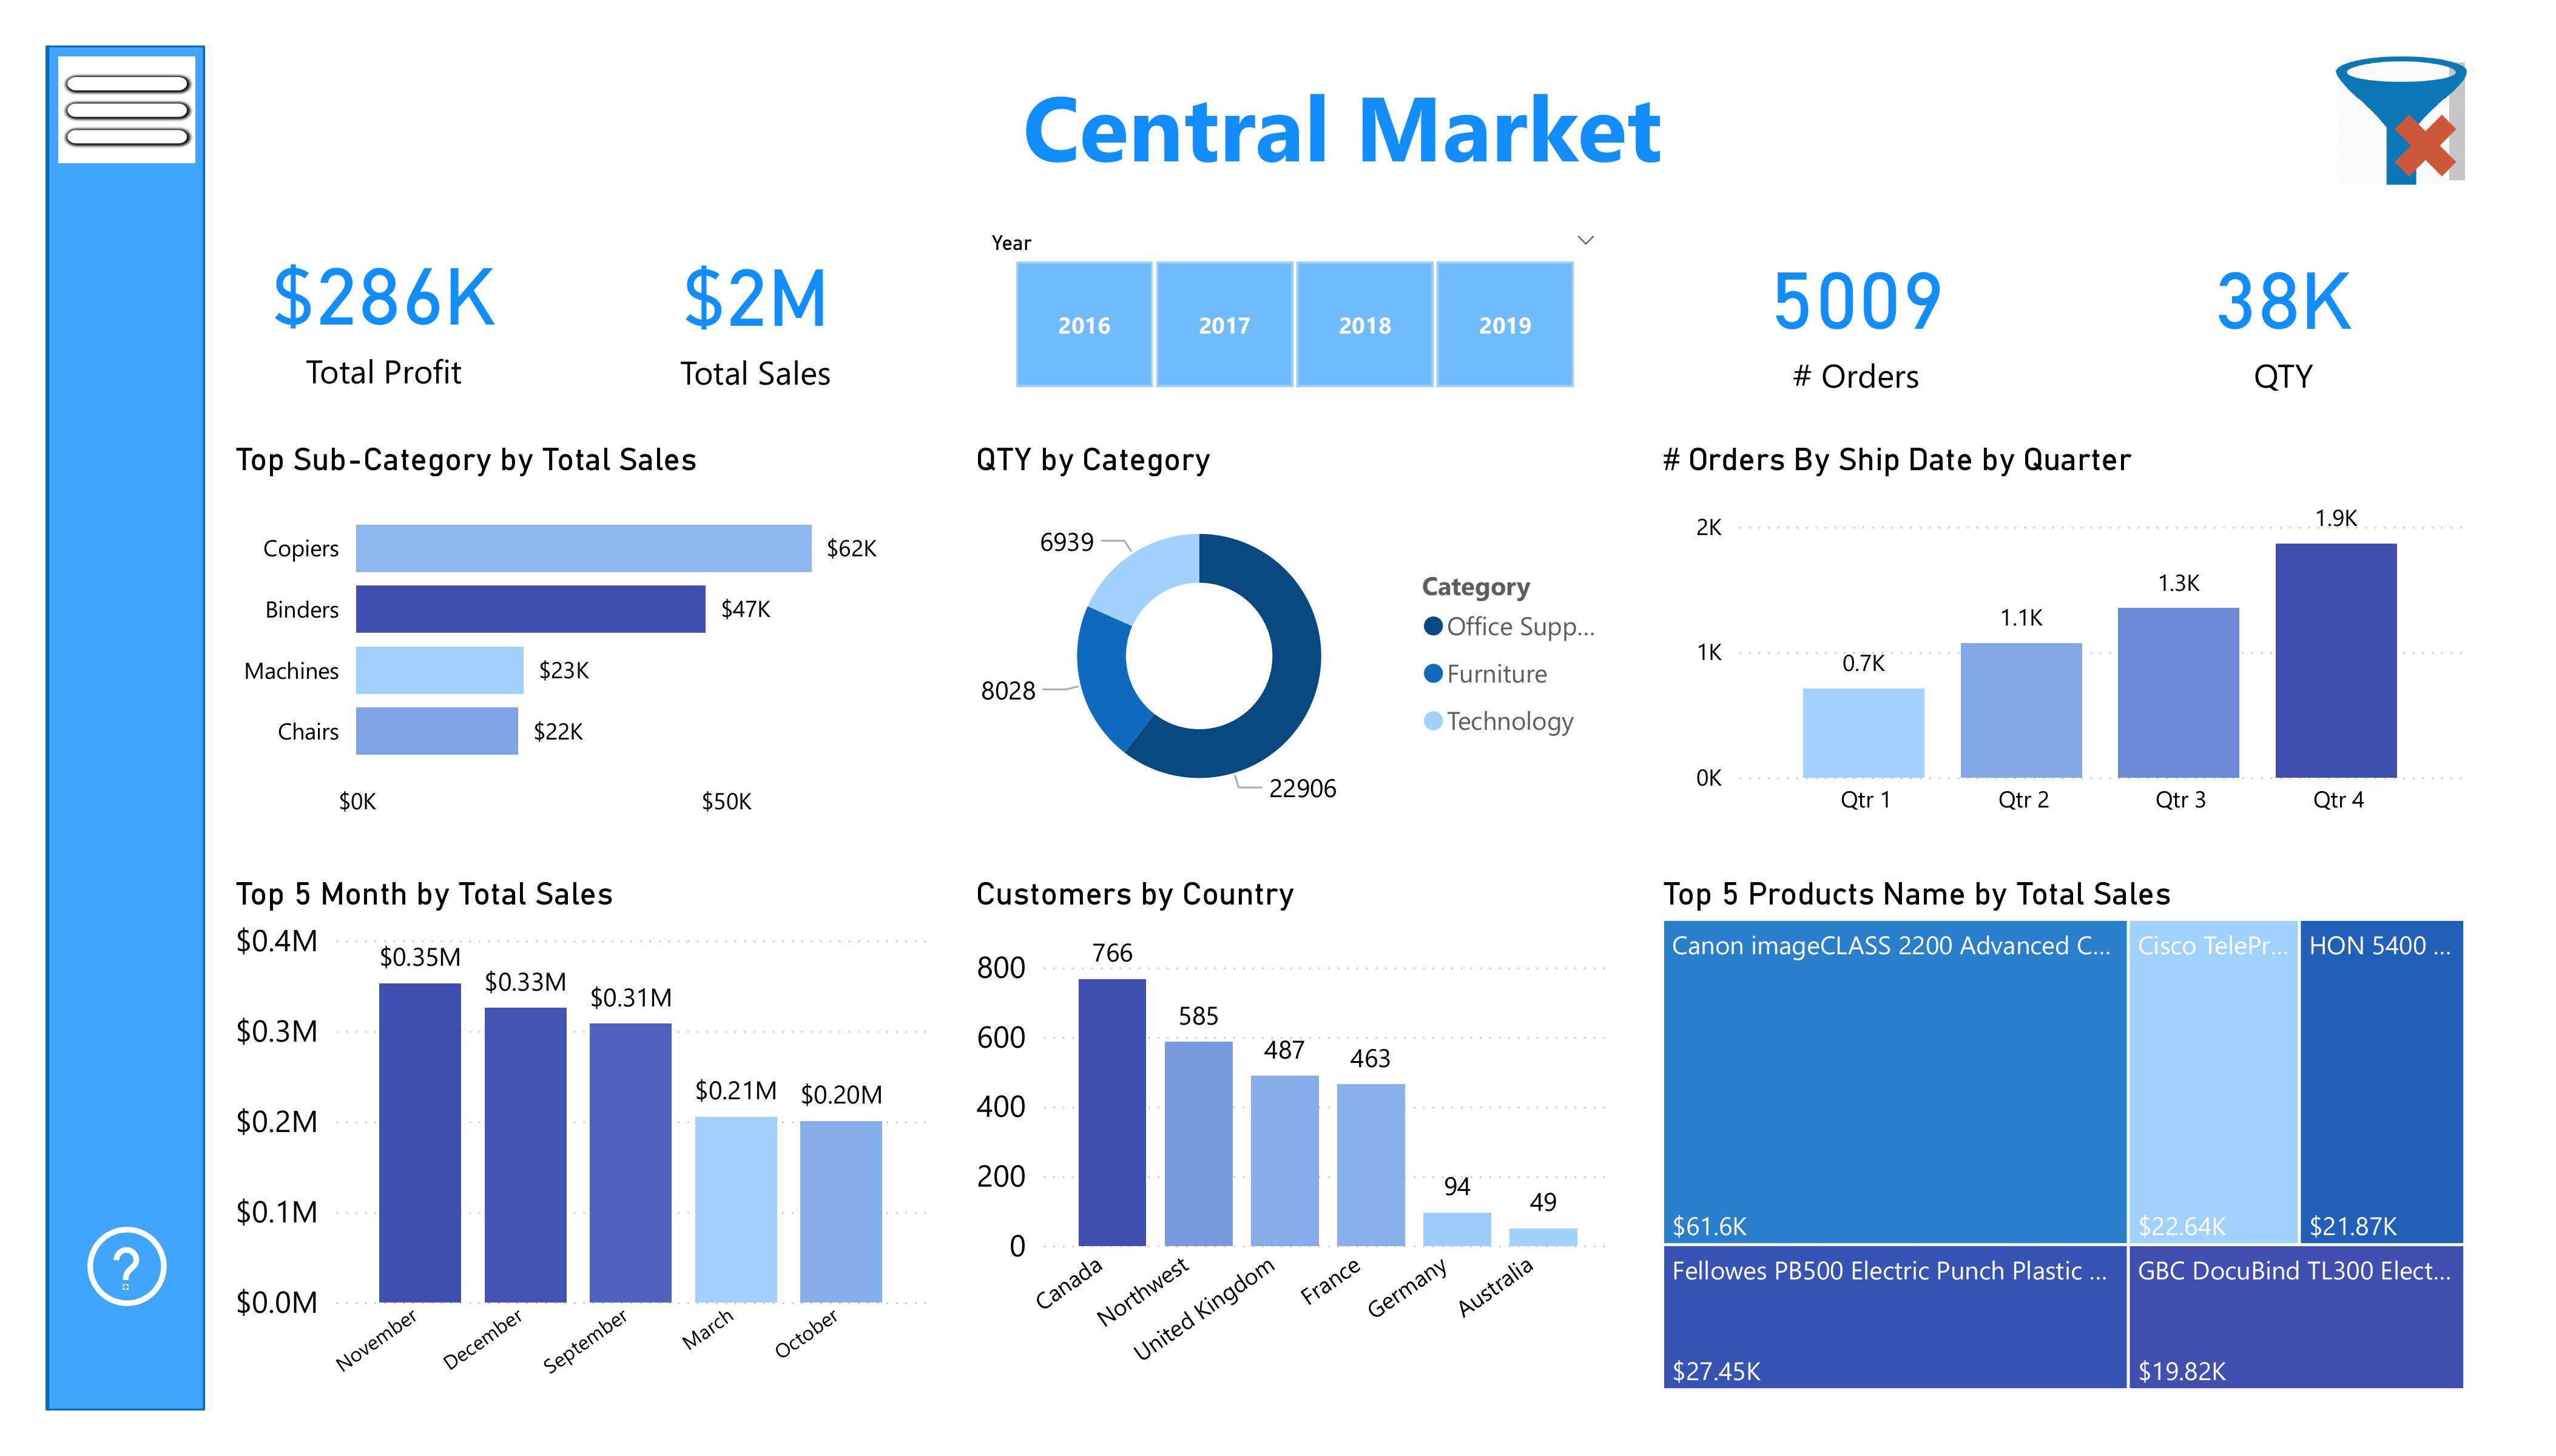

What the dashboard file says about the page in this screenshot:
{"tool":"powerbi","page":{"name":"Overview","canvas":[1300,720],"ordinal":0},"visuals":[{"type":"textbox","box":[90.7,0,1192.3,79.2],"z":0},{"type":"actionButton","title":"QS","box":[7.2,616.4,70.6,54.7],"z":0,"group":"g2"},{"type":"actionButton","title":"QS","box":[1.9,623.5,73.4,53.3],"z":0,"group":"g1"},{"type":"actionButton","title":"Menu Button","box":[3.1,0,71.6,56.2],"z":1000,"group":"g1"},{"type":"image","box":[1183.7,0,116.6,79.2],"z":1000},{"type":"actionButton","title":"Menu Button","box":[7.2,5.8,72,56.2],"z":1000,"group":"g2"},{"type":"card","fields":{"Values":["Dax Measures.# Orders"]},"box":[843.8,90.7,220.3,99.4],"z":3000},{"type":"shape","box":[0,0,77.8,720],"z":4000},{"type":"card","fields":{"Values":["Dax Measures.Total Profit"]},"box":[90.7,87.8,172.8,100.8],"z":5000},{"type":"card","fields":{"Values":["Dax Measures.Total Sales"]},"box":[275,89.3,197.3,99.4],"z":6000},{"type":"group","id":"g1","title":"Menu Bar","box":[1.9,0,73.4,676.8],"z":7000},{"type":"card","fields":{"Values":["Dax Measures.QTY"]},"box":[1075.7,90.7,207.4,99.4],"z":8000},{"type":"treemap","title":"Top 5 Products Name by Total Sales","fields":{"Values":["Dax Measures.Total Sales"],"Group":["DimProducts.Product Name"]},"box":[843.8,433.4,439.2,282.2],"z":9000},{"type":"donutChart","fields":{"Y":["Dax Measures.QTY"],"Category":["DimProducts.Category"]},"box":[482.4,204.5,351.4,214.6],"z":10000},{"type":"columnChart","fields":{"Category":["DimDates.Date.Variation.Date Hierarchy.Quarter"],"Y":["Dax Measures.# Orders By Ship Date"]},"box":[843.8,204.5,439.2,213.1],"z":11000},{"type":"clusteredColumnChart","title":"Top 5 Month by Total Sales","fields":{"Y":["Dax Measures.Total Sales"],"Category":["DimDates.Month Name"]},"box":[90.7,433.4,381.6,282.2],"z":12000},{"type":"clusteredColumnChart","title":"Customers by Country","fields":{"Y":["Dax Measures.# Customers"],"Category":["DimTerritories.Territory"]},"box":[482.4,433.4,351.4,282.2],"z":13000},{"type":"slicer","fields":{"Values":["DimDates.Year"]},"box":[482.4,89.3,351.4,99.4],"z":14000},{"type":"barChart","title":"Top  Sub-Category by Total Sales ","fields":{"Category":["DimProducts.Sub-Category"],"Y":["Dax Measures.Total Sales"]},"box":[90.7,204.5,381.6,214.6],"z":15000},{"type":"shape","box":[1.4,0,82.1,720],"z":21000},{"type":"group","id":"g2","title":"Menu Bar","box":[7.2,5.8,72,665.3],"z":22000}]}

Visuals, with their boxes on the page's 1300x720 design canvas (x1, y1, x2, y2). These are canvas units, not pixel positions in the 2556x1456 screenshot, which may show the page scaled, cropped or inside an application window:
textbox: select_region(91, 0, 1283, 79)
"QS" actionButton: select_region(7, 616, 78, 671)
"QS" actionButton: select_region(2, 624, 75, 677)
"Menu Button" actionButton: select_region(3, 0, 75, 56)
image: select_region(1184, 0, 1300, 79)
"Menu Button" actionButton: select_region(7, 6, 79, 62)
card - Dax Measures.# Orders: select_region(844, 91, 1064, 190)
shape: select_region(0, 0, 78, 720)
card - Dax Measures.Total Profit: select_region(91, 88, 264, 189)
card - Dax Measures.Total Sales: select_region(275, 89, 472, 189)
"Menu Bar" group: select_region(2, 0, 75, 677)
card - Dax Measures.QTY: select_region(1076, 91, 1283, 190)
"Top 5 Products Name by Total Sales" treemap: select_region(844, 433, 1283, 716)
donutChart - Dax Measures.QTY x DimProducts.Category: select_region(482, 204, 834, 419)
columnChart - DimDates.Date.Variation.Date Hierarchy.Quarter x Dax Measures.# Orders By Ship Date: select_region(844, 204, 1283, 418)
"Top 5 Month by Total Sales" clusteredColumnChart: select_region(91, 433, 472, 716)
"Customers by Country" clusteredColumnChart: select_region(482, 433, 834, 716)
slicer - DimDates.Year: select_region(482, 89, 834, 189)
"Top  Sub-Category by Total Sales " barChart: select_region(91, 204, 472, 419)
shape: select_region(1, 0, 84, 720)
"Menu Bar" group: select_region(7, 6, 79, 671)
